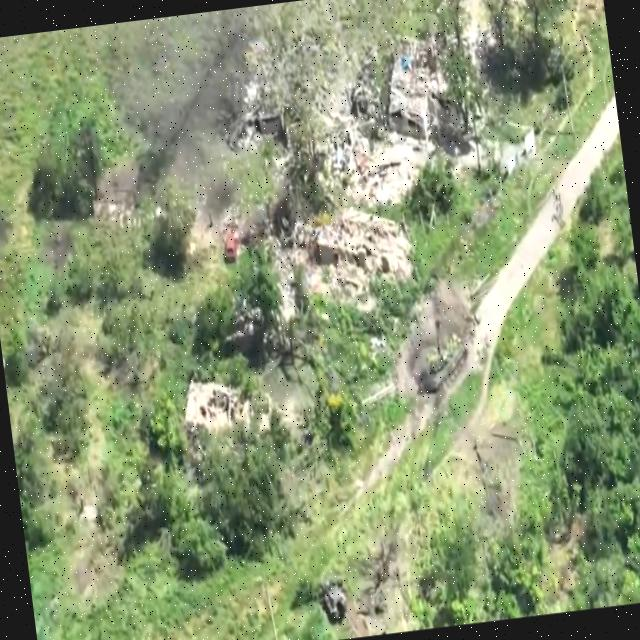MBT: (413, 323, 474, 396)
Vehicle: (319, 575, 350, 627), (221, 234, 243, 267)
